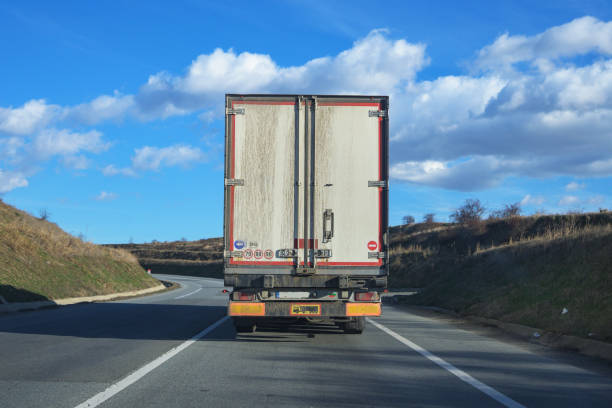Semi: (221, 93, 389, 333)
